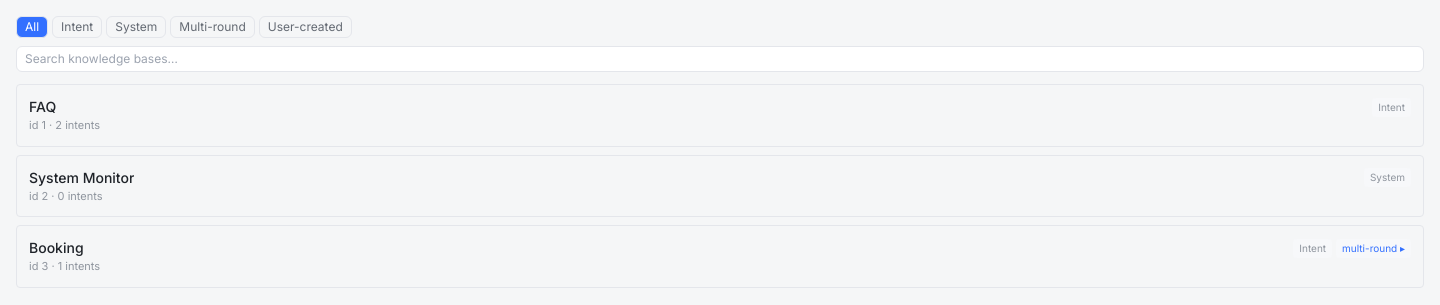
Test: KBPlane filters › filters to multi-round KBs
Click the button with test id "chip-multi-round" at (212, 27), box [170,16,255,38]
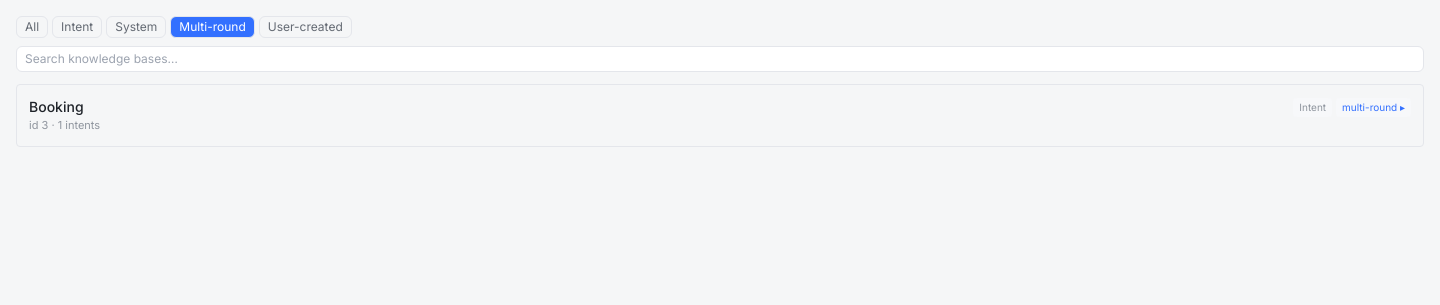
Check: the text "Booking" is shown, box [29,97,84,117]
Check: the number of list items with test id "kb-row" is 1, box [16,84,1424,146]
